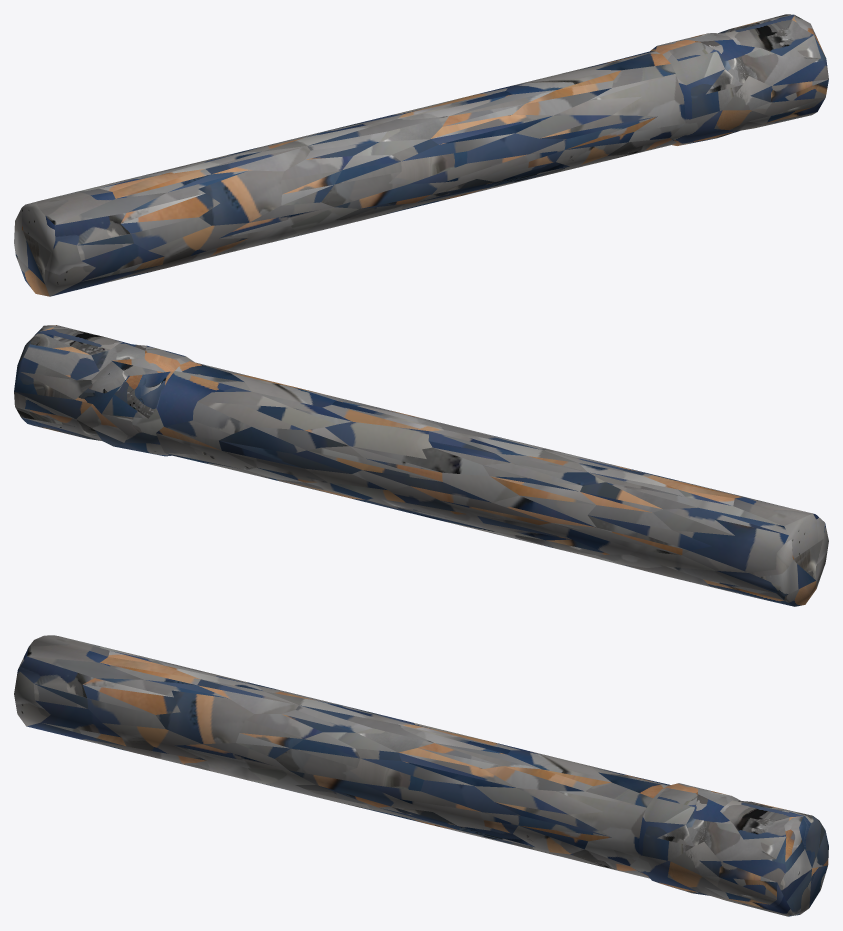
Rendered from 손잡이.fbx.
The picture shows the model from 3 angles, top to bottom: view 1: azimuth 30°, elevation 25°; view 2: azimuth 150°, elevation 25°; view 3: azimuth 330°, elevation 25°; orthographic projection.
Visible parts, largest first — view 1: input; view 2: input; view 3: input.
Boxes of the visible parts, x1,y1,x2,y2 form: input: (14, 14, 828, 296); input: (14, 325, 828, 606); input: (14, 635, 828, 916).
Size of the model in its own units: 128 by 15.14 by 15.11.
